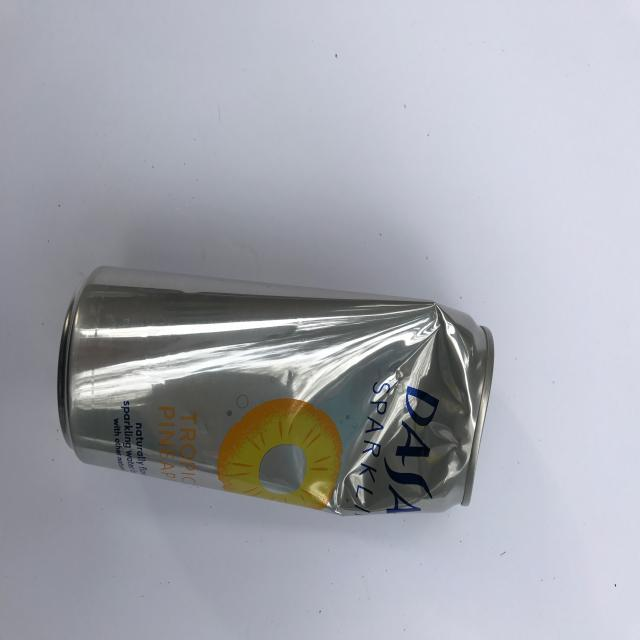metal: (60, 266, 498, 516)
